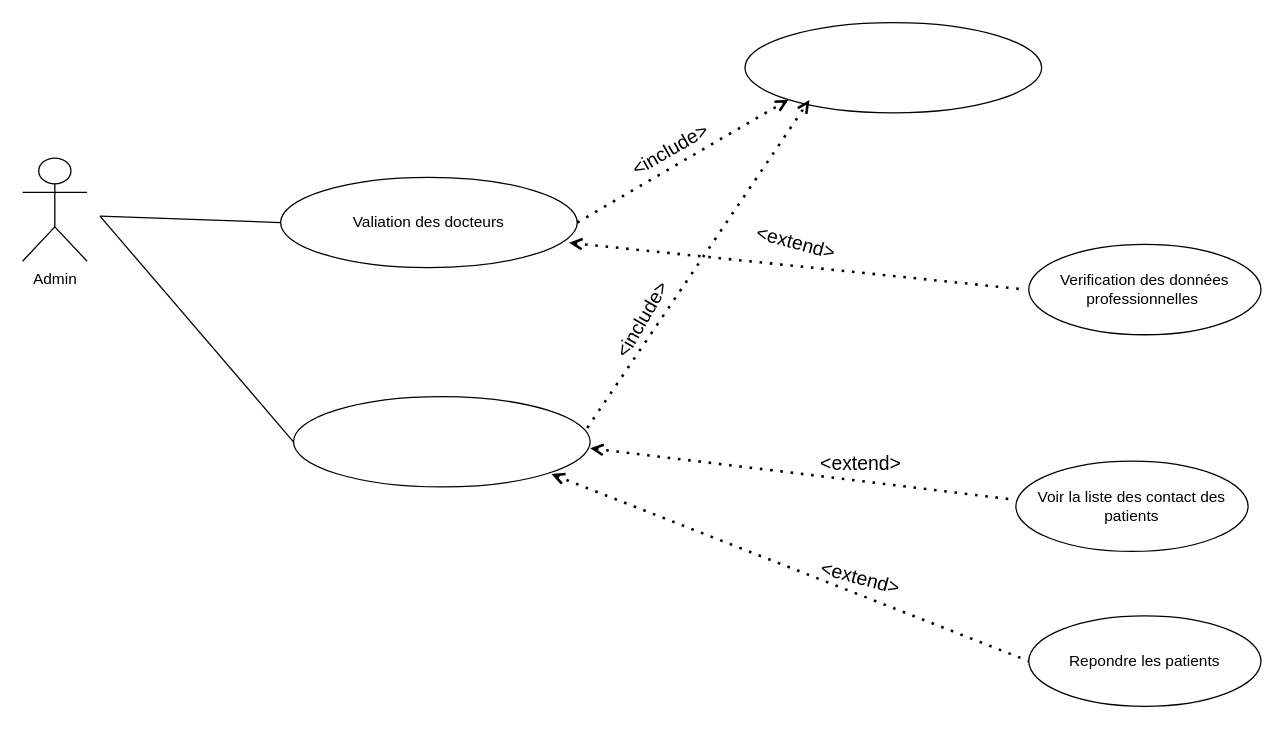
Some shapes in this 1284 by 729 pixel diagram are drawn without their labels. Here are the shapes that lost their labels. From the top down, the centre of each, then its label:
At (x=893, y=67): "L'authentification pour acceder au plateforme".
At (x=441, y=441): "Gestion des contacts".
